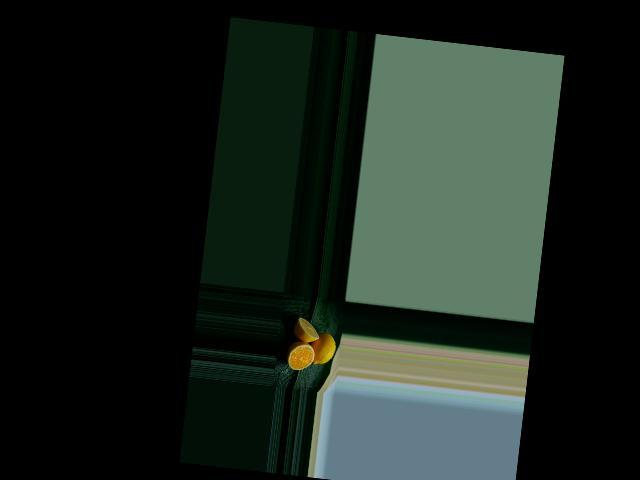lemon: (306, 330, 336, 371)
